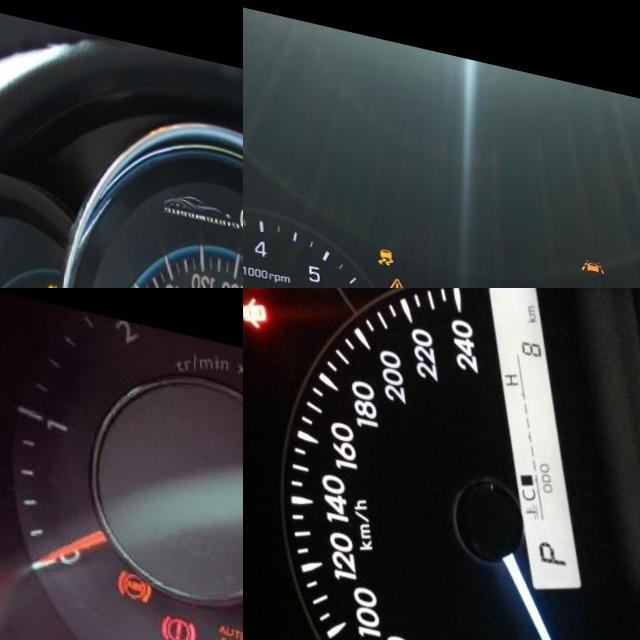Central Warning lamp: (389, 263, 410, 284)
LaneCenteringOff: (582, 235, 606, 252)
